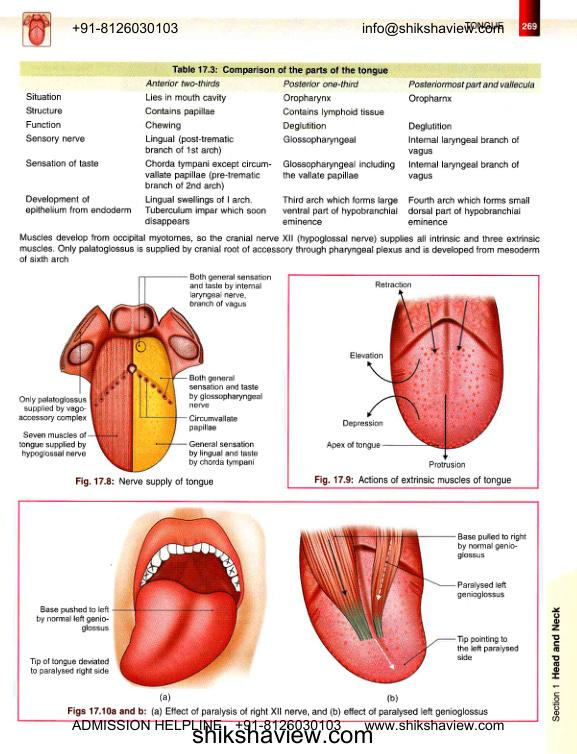caption: (66, 705, 489, 718), (313, 473, 512, 487), (171, 65, 390, 77), (75, 476, 214, 489), (159, 691, 172, 703), (386, 693, 399, 704)
image: (18, 500, 537, 720), (13, 268, 278, 475), (287, 274, 539, 489)
table: (20, 78, 540, 228)
text: (18, 231, 541, 264)
